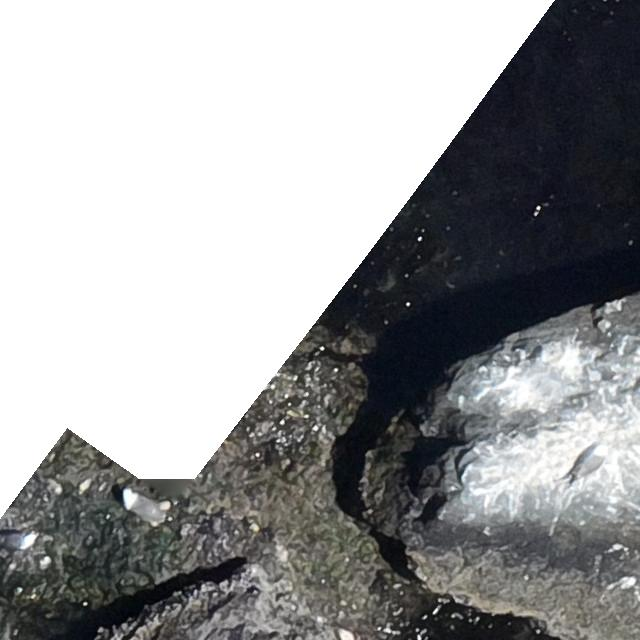umineko: (572, 445, 606, 486), (125, 493, 161, 517), (3, 533, 34, 550)
